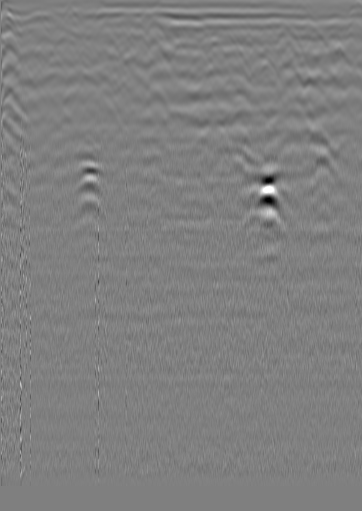가스: (73, 155, 113, 186)
상수: (303, 25, 323, 45)
오수: (3, 17, 23, 37)
우수: (169, 21, 189, 41)
